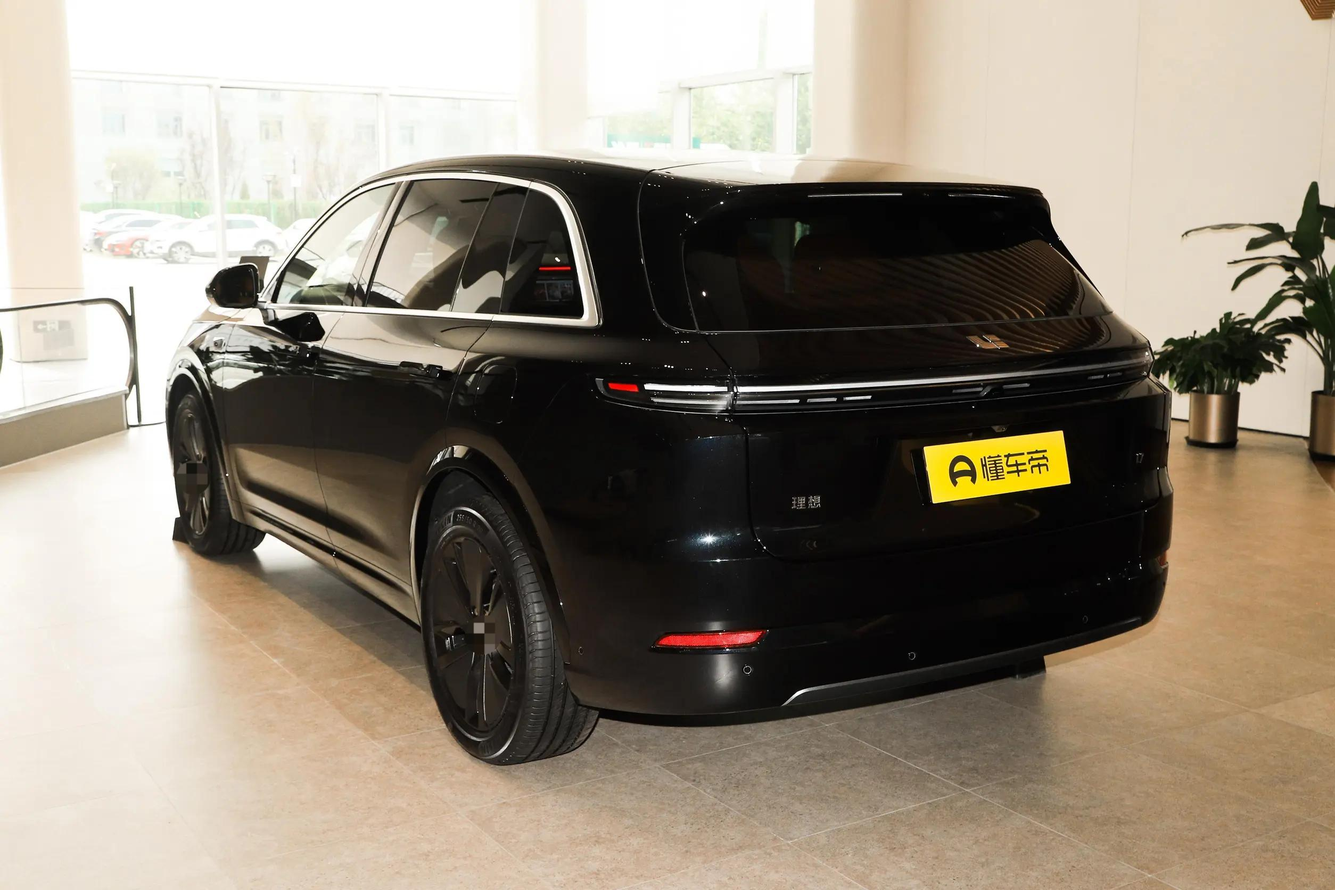Li Auto: (966, 333, 1010, 349)
